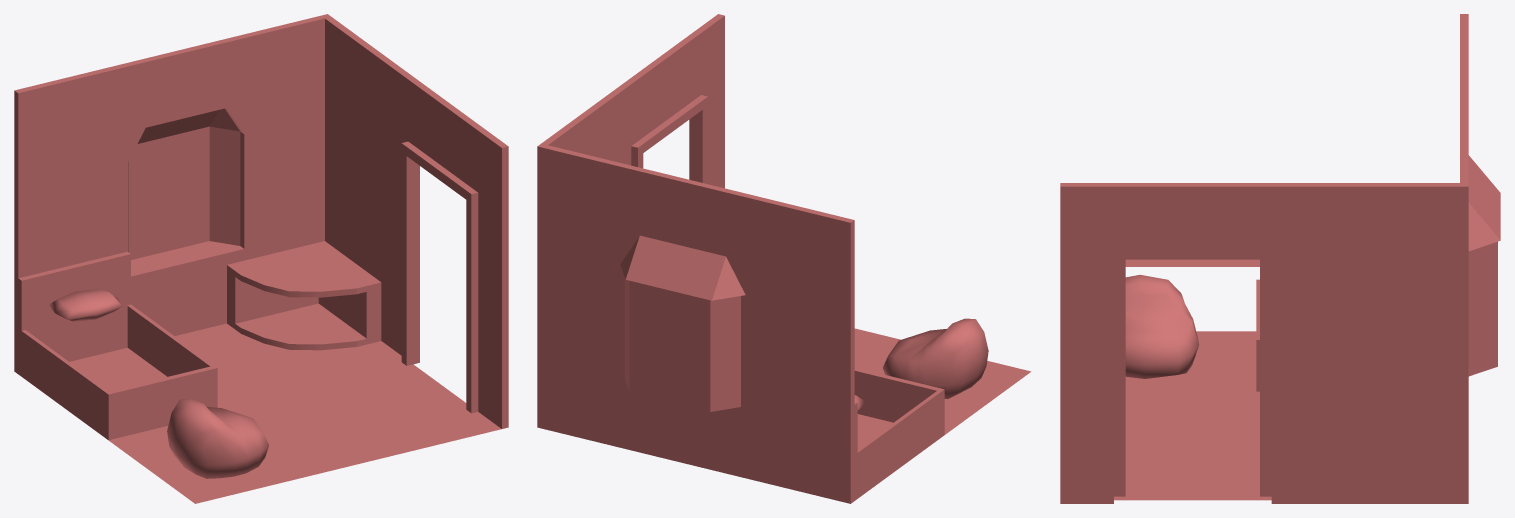
The model's file is bedroom.fbx.
The picture shows the model from 3 angles, left to right: view 1: azimuth 30°, elevation 25°; view 2: azimuth 150°, elevation 25°; view 3: azimuth 270°, elevation 25°; orthographic projection. The views are drawn at different scales.
Parts seen in each view (by area): view 1: room1, bedframe, polySurface15, tv_shelf, doorframe1, beanbag, pillow; view 2: room1, polySurface15, bedframe, beanbag, polySurface16, doorframe1; view 3: room1, doorframe1, beanbag, polySurface15, polySurface16.
Part boxes in pixels (x1,y1,x2,y2): room1: (14,14,508,503); bedframe: (18,251,217,440); polySurface15: (128,108,240,272); tv_shelf: (227,241,381,350); doorframe1: (401,141,478,413); beanbag: (167,398,268,478); pillow: (49,289,122,321); room1: (537,14,1031,503); polySurface15: (624,277,740,411); bedframe: (854,367,944,500); beanbag: (883,318,988,398); polySurface16: (620,235,745,300); doorframe1: (631,95,707,184); room1: (1060,14,1468,503); doorframe1: (1114,256,1271,496); beanbag: (1125,274,1199,378); polySurface15: (1468,241,1497,376); polySurface16: (1468,155,1500,251).
Size of the model in its own units: 140 by 120 by 151.
